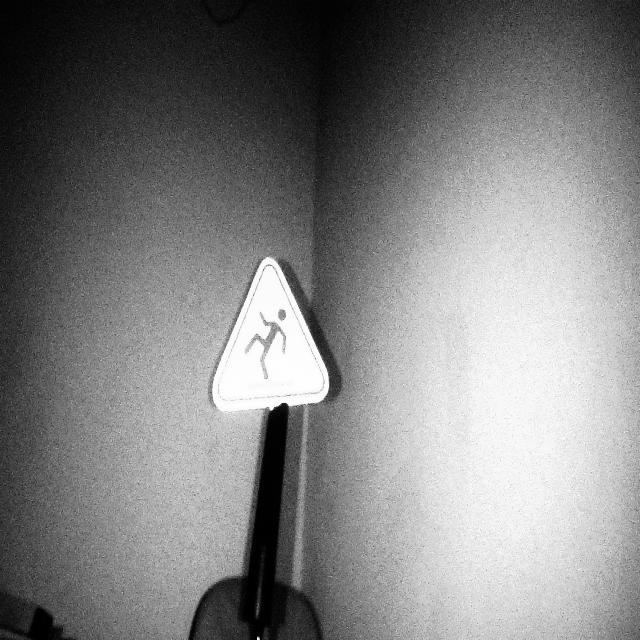Sign: (212, 257, 331, 414)
